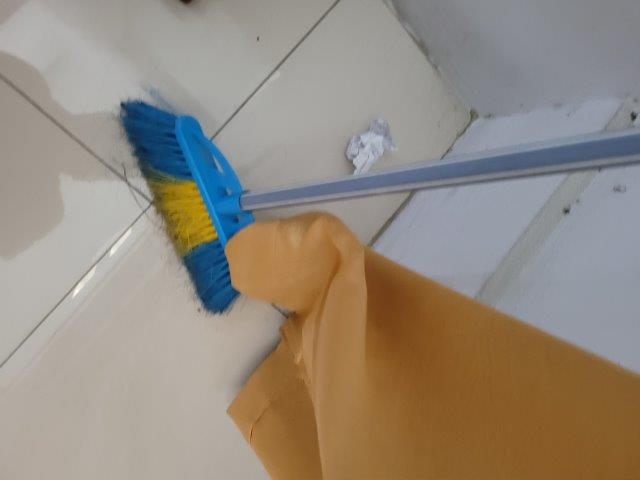kertas: (346, 118, 398, 176)
